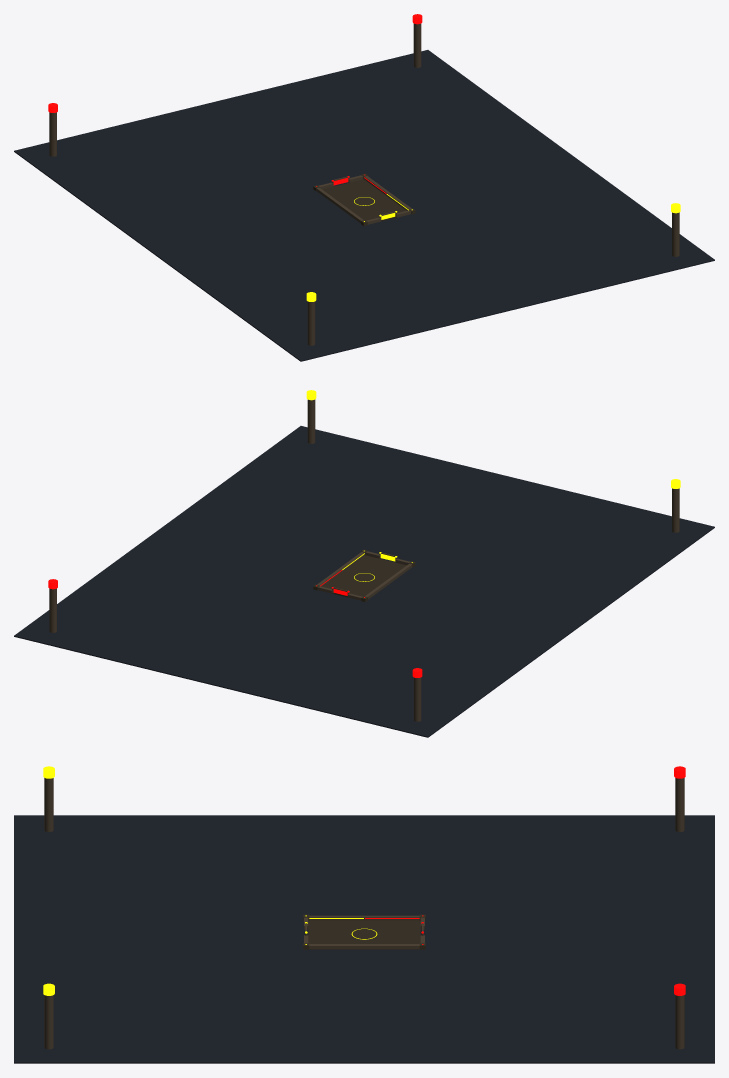
The model's file is mesa_cyber_colosseum.glb.
The picture shows the model from 3 angles, top to bottom: view 1: azimuth 30°, elevation 25°; view 2: azimuth 150°, elevation 25°; view 3: azimuth 270°, elevation 25°; orthographic projection. The views are drawn at different scales.
Parts seen in each view (by area): view 1: Cube.020, Colosseum_Surface; view 2: Cube.020, Colosseum_Surface; view 3: Cube.020, Colosseum_Surface, Colosseum_RailR, Colosseum_RailL, Cylinder.012, Cylinder.014, Cylinder.016, Cylinder.018.
Boxes of the visible parts, x1=… form: Cube.020: x1=14, y1=50, x2=714, y2=361; Colosseum_Surface: x1=322, y1=179, x2=406, y2=221; Cube.020: x1=14, y1=426, x2=714, y2=737; Colosseum_Surface: x1=322, y1=555, x2=406, y2=597; Cube.020: x1=14, y1=815, x2=714, y2=1063; Colosseum_Surface: x1=308, y1=921, x2=420, y2=949; Colosseum_RailR: x1=309, y1=944, x2=419, y2=949; Colosseum_RailL: x1=309, y1=915, x2=419, y2=920; Cylinder.012: x1=44, y1=778, x2=53, y2=831; Cylinder.014: x1=44, y1=995, x2=53, y2=1049; Cylinder.016: x1=675, y1=778, x2=684, y2=831; Cylinder.018: x1=675, y1=995, x2=684, y2=1049.
Bounding box in the file's own units: 10 × 1.18 × 12.
